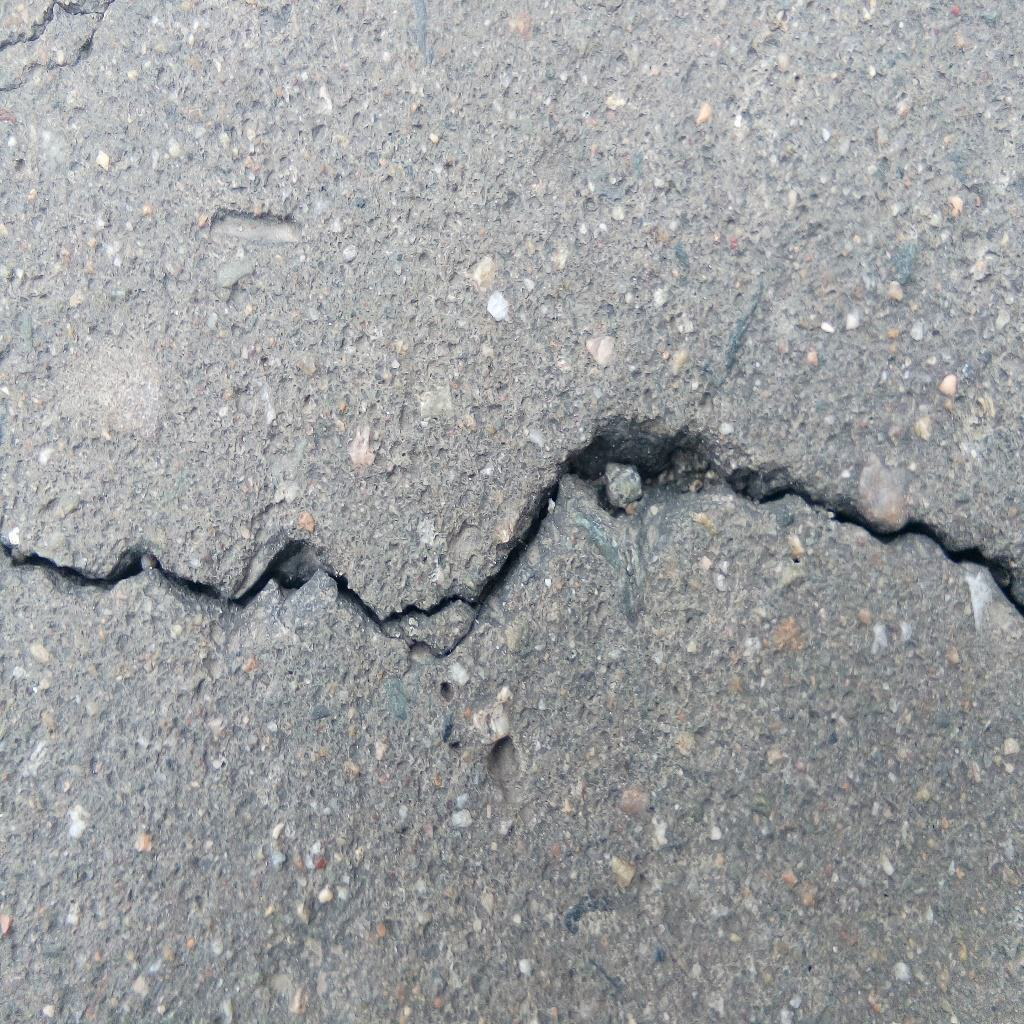Crack: (1, 412, 1024, 661)
